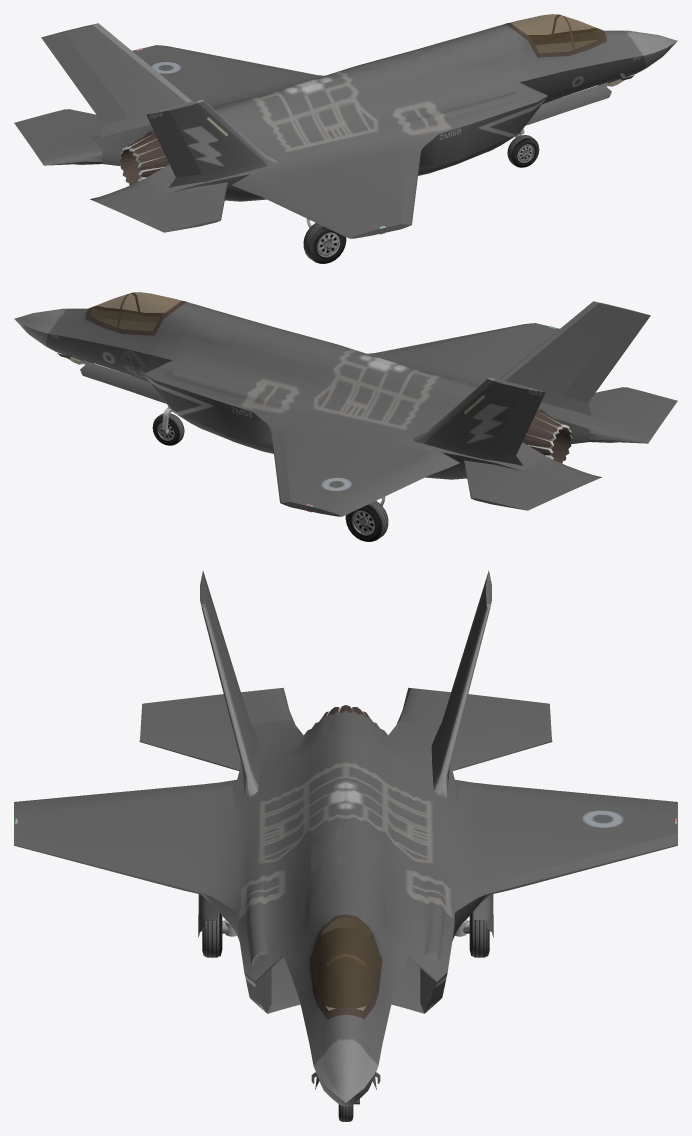
File: raff351.glb
3 renders of one model, top to bottom at view 1: azimuth 30°, elevation 25°; view 2: azimuth 150°, elevation 25°; view 3: azimuth 270°, elevation 25°, orthographic. The views are drawn at different scales.
Visible parts, largest first — view 1: fuselage; view 2: fuselage; view 3: fuselage.
Part boxes in pixels (x1=…): fuselage: x1=14, y1=14, x2=677, y2=263; fuselage: x1=14, y1=292, x2=677, y2=541; fuselage: x1=14, y1=570, x2=677, y2=1121.
Size of the model in its own units: 18.48 by 5.66 by 12.81.
Materials: 8 (2 with a texture image).
